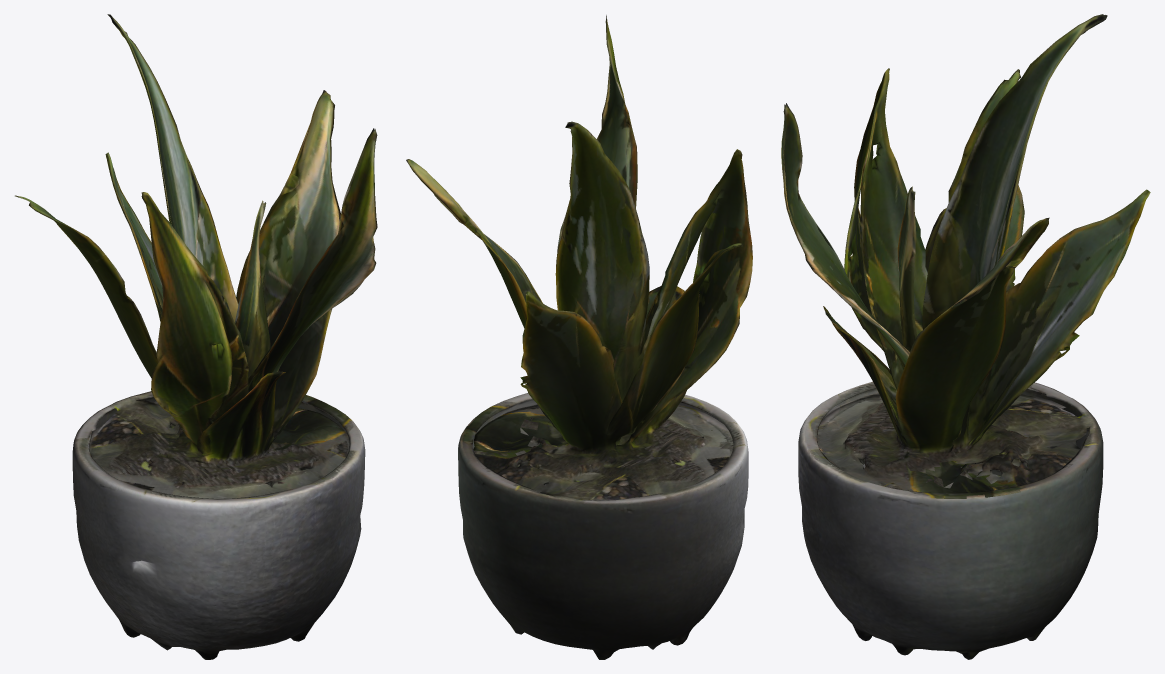
Rendered from snakeplant.glb.
3 views of the same model, side by side, from view 1: azimuth 30°, elevation 25°; view 2: azimuth 150°, elevation 25°; view 3: azimuth 270°, elevation 25° (orthographic). The views are drawn at different scales.
Bounding box in the file's own units: 1.22 × 2 × 1.14.
Materials: 1 (1 with a texture image).
